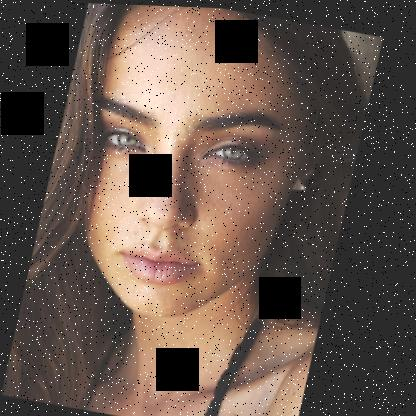Female: (54, 2, 348, 335)
